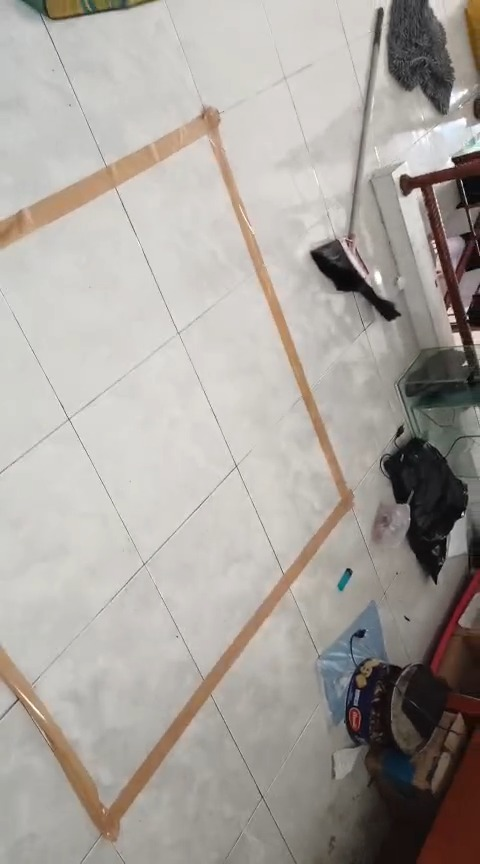floor marking: (0, 109, 352, 840)
